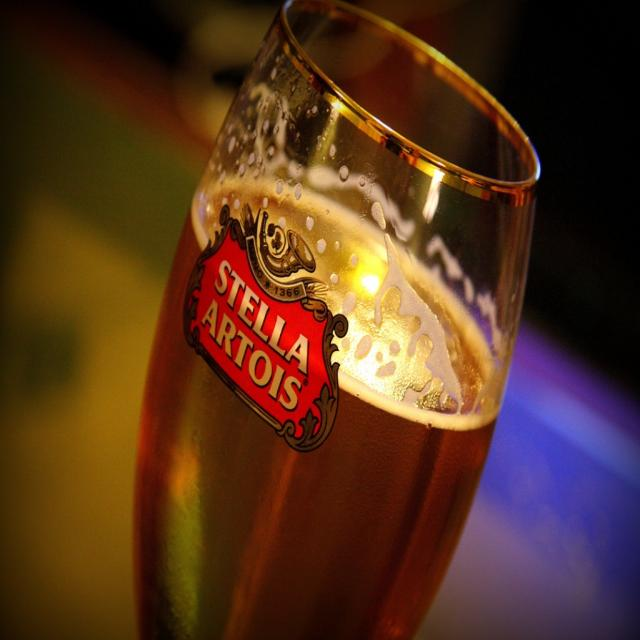stellaartois: (182, 200, 349, 453)
